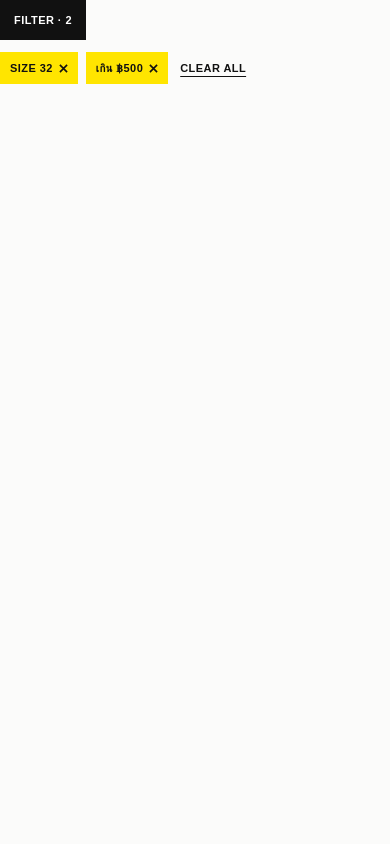
FilterBar on phones › clears every choice in the sheet without leaving it
Later steps or results of the test are not shown.
Click the button "FILTER · 2": (43, 20) [0, 0, 86, 40]
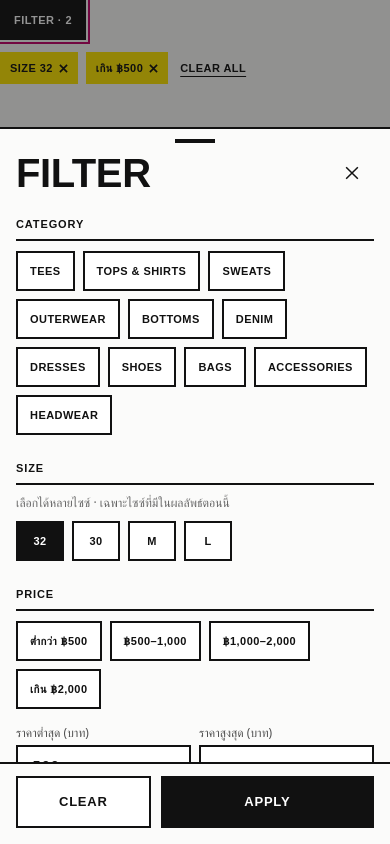
Click the button "CLEAR": (83, 802) [16, 776, 151, 828]
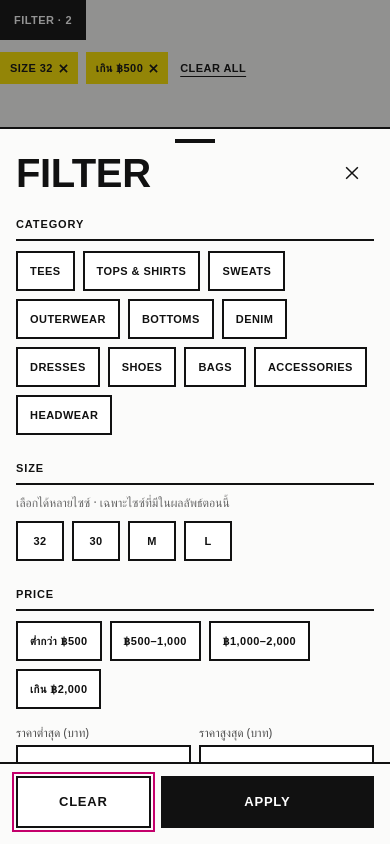
Now the button "32" is not pressed, box [16, 521, 64, 561]
